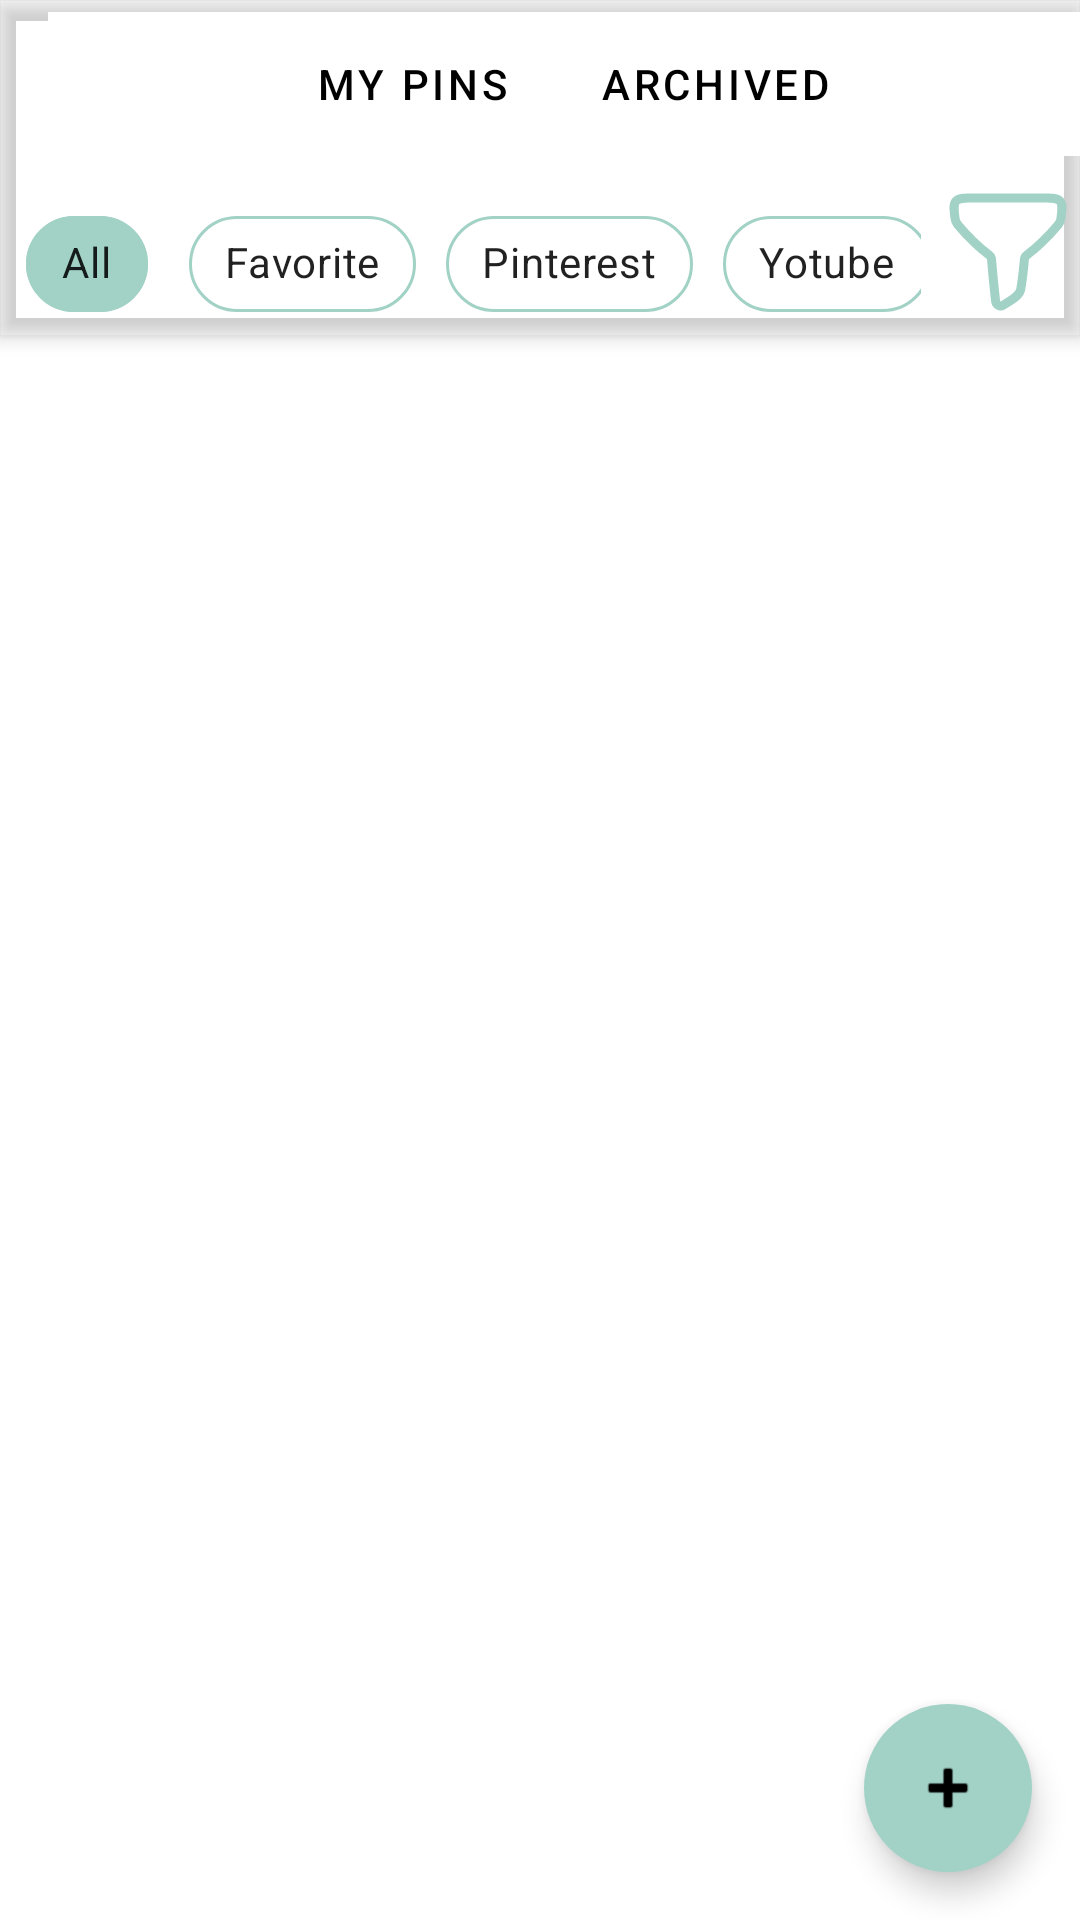

Screen size 1080 × 1920. Icon name, then its center in pixels as (x=x, y=y):
add: (x=948, y=1788)
filter: (x=1008, y=252)
